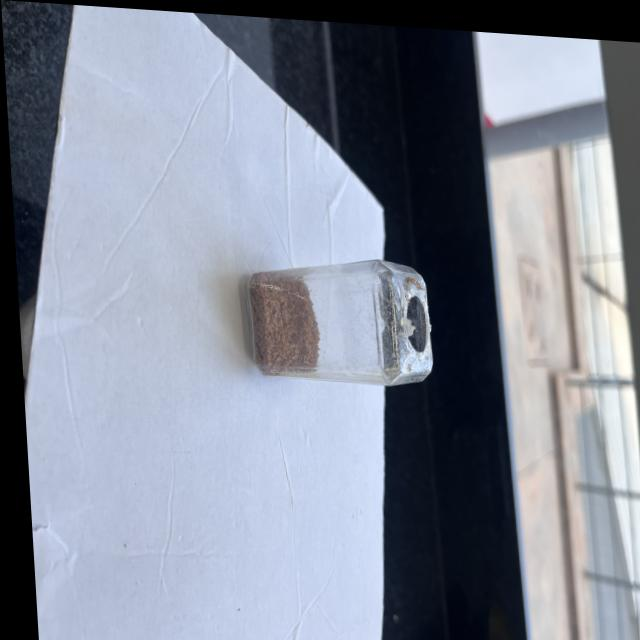maggie_open: (240, 266, 317, 376)
